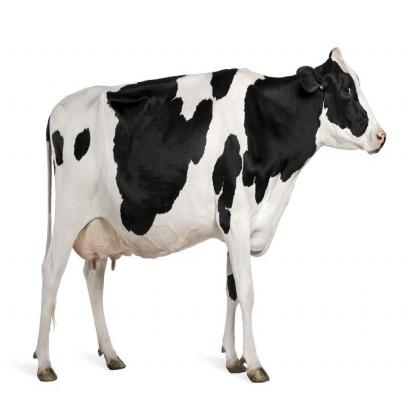cow: (34, 45, 386, 382)
